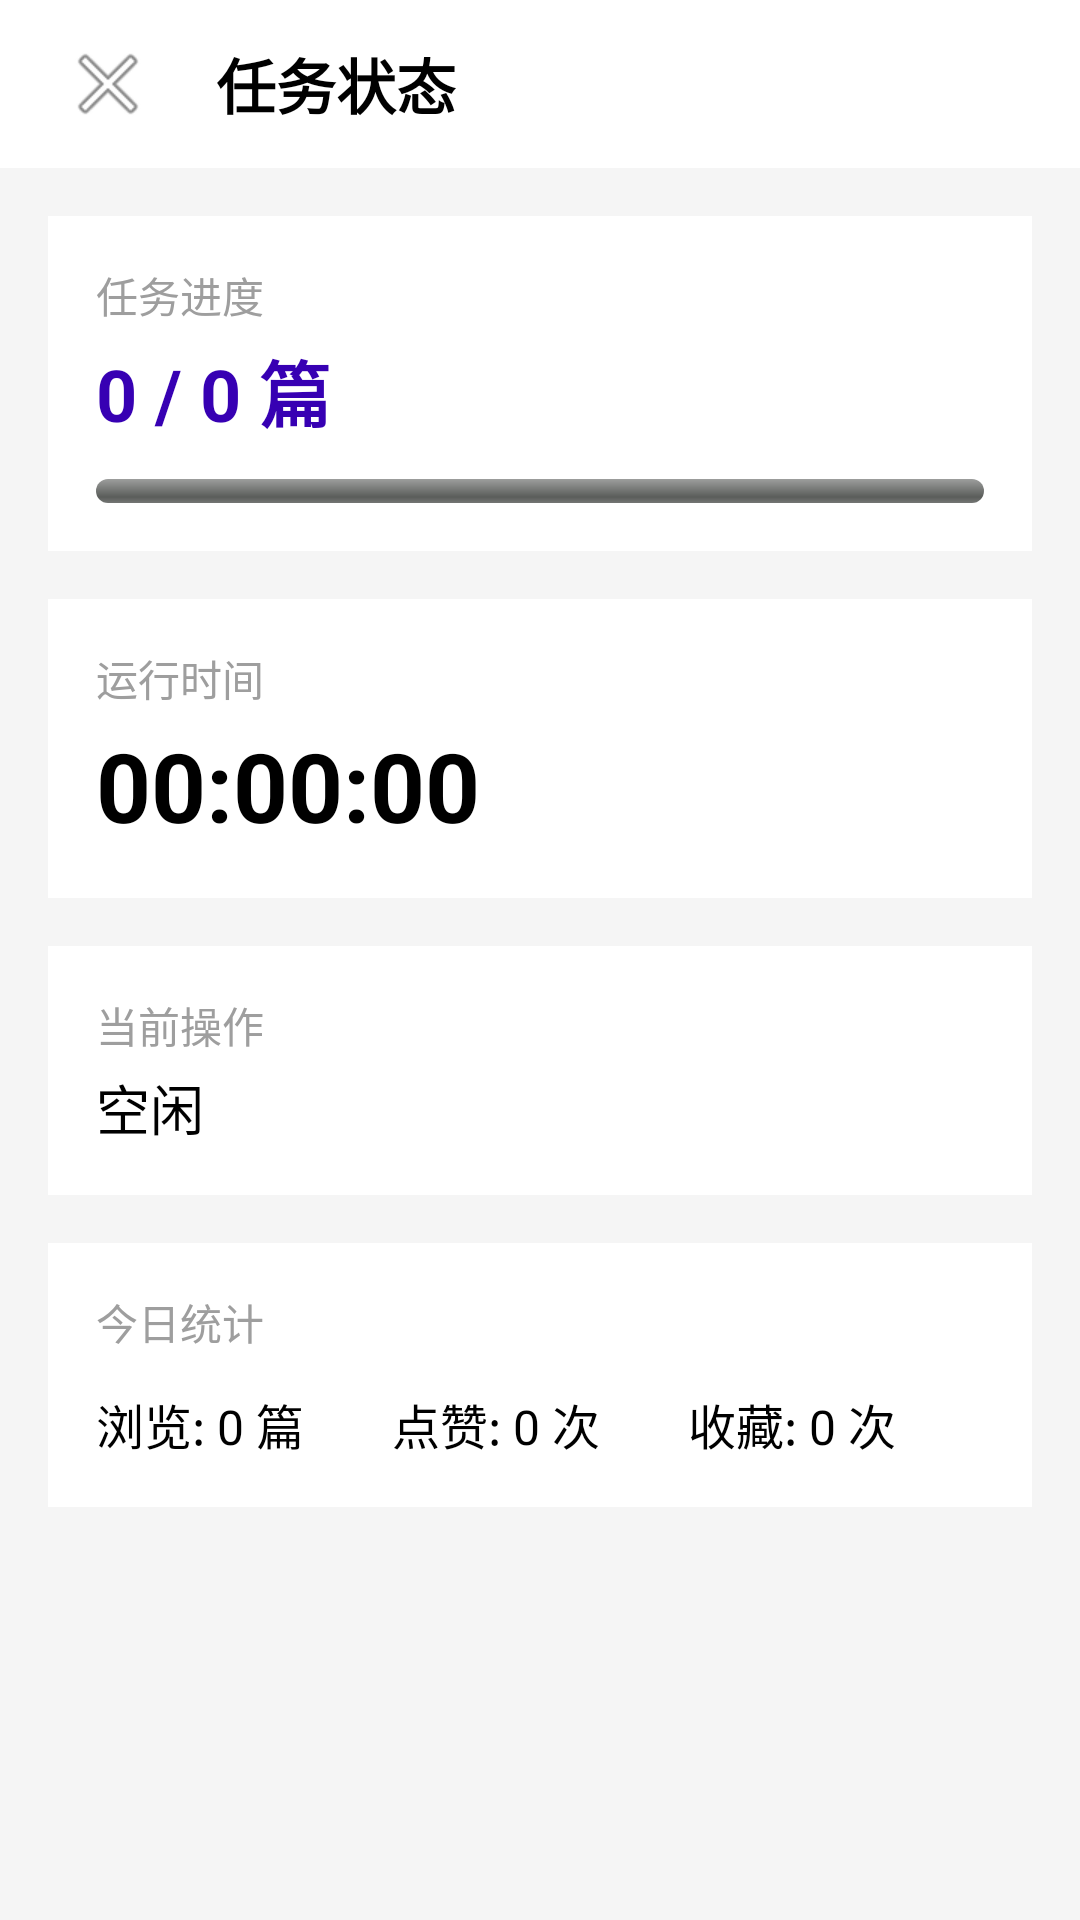

Where to tap for icons on this 1080px x 1920px app screen, as (x=x, y=y):
close clear cancel: (x=108, y=84)
